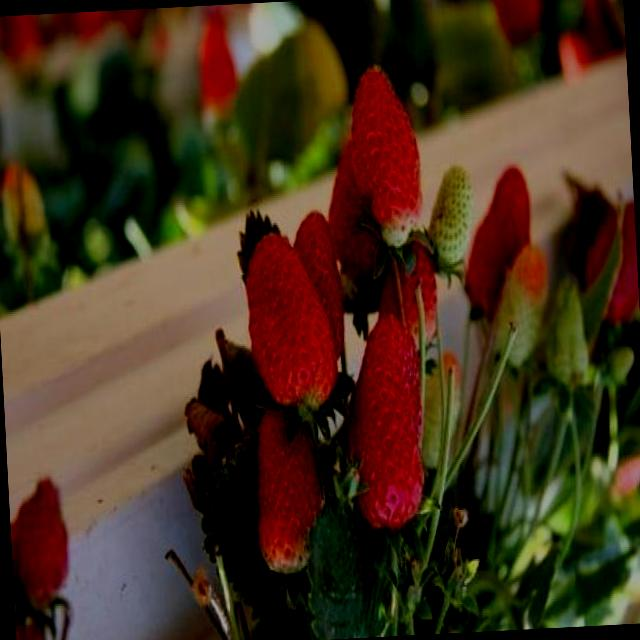Strawberry: (339, 316, 429, 532), (244, 234, 341, 411), (346, 66, 426, 249), (252, 408, 324, 580), (8, 478, 71, 618), (376, 239, 438, 349)
